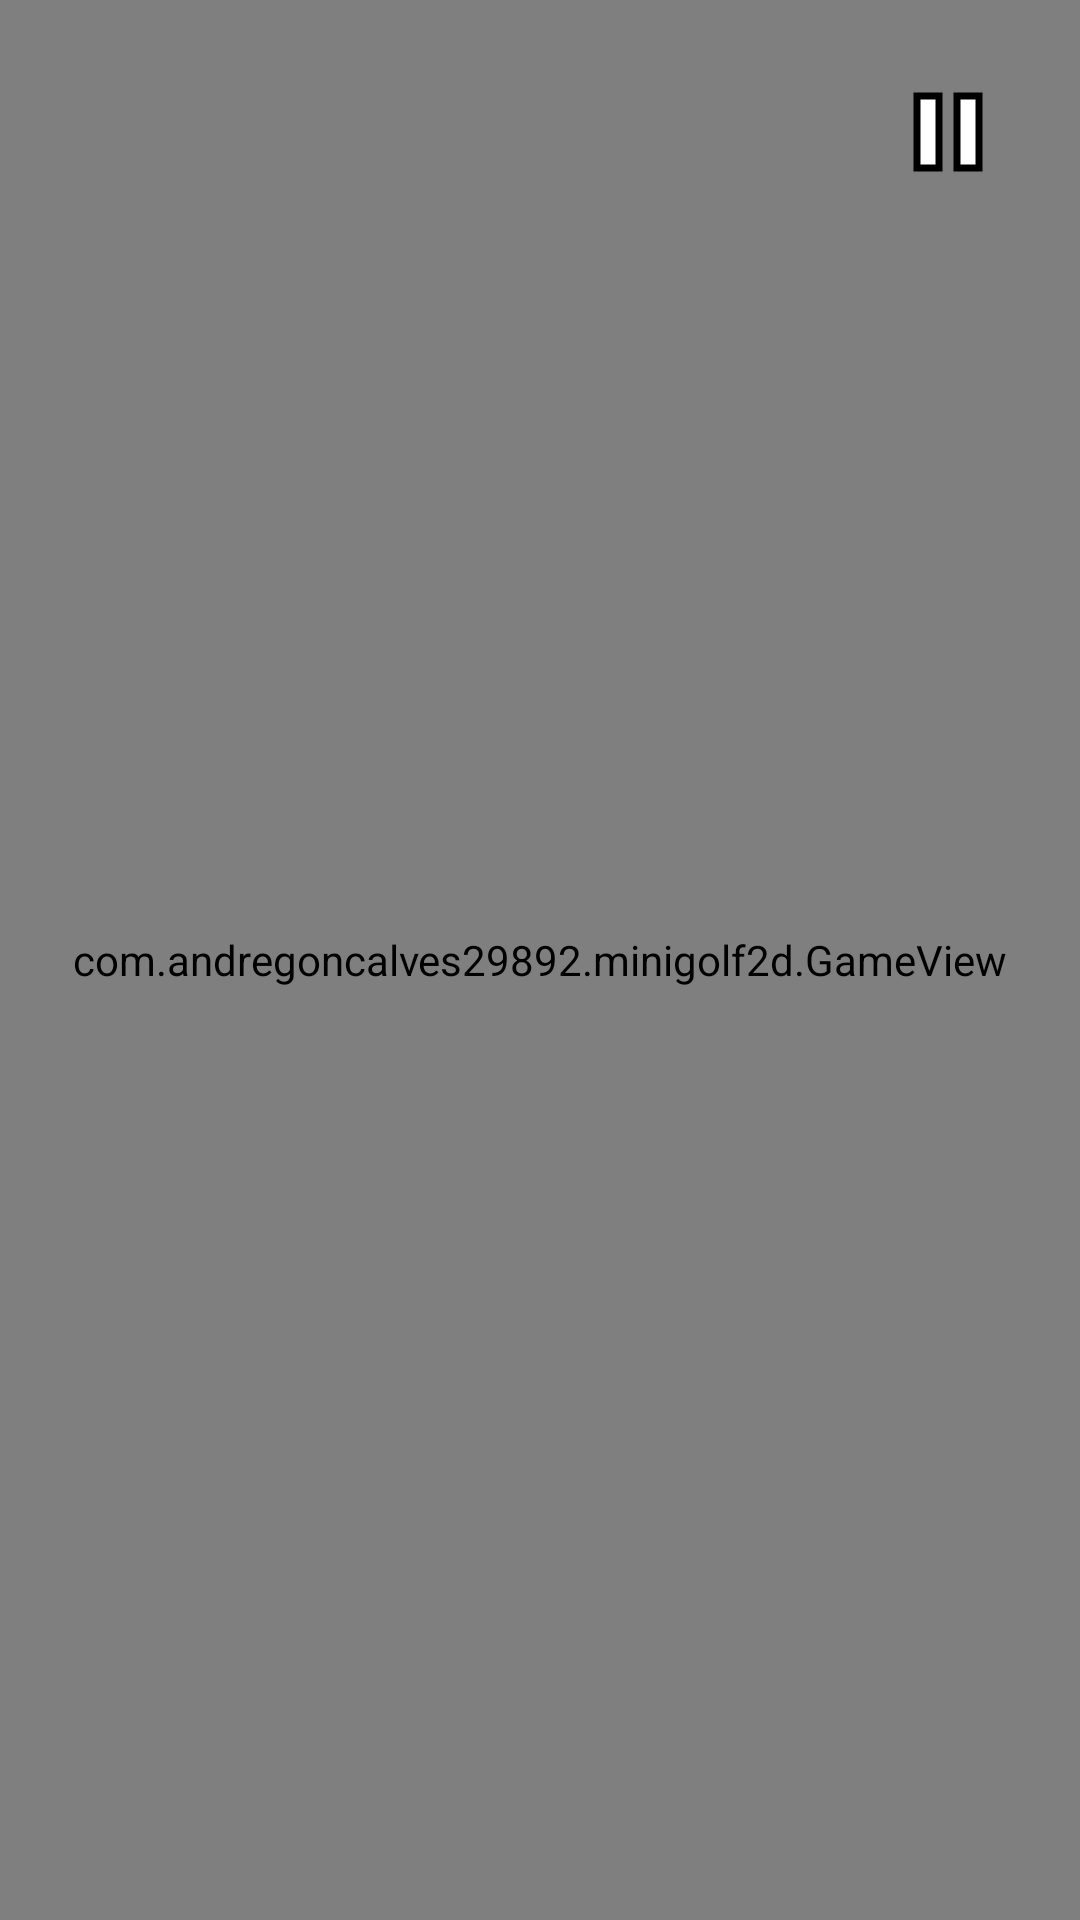

Icons on this 1080 × 1920 Android screen, each with the point to tap as (x=x, y=y):
pause custom: (x=948, y=132)
